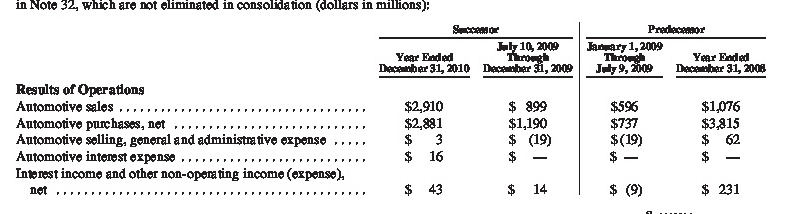table: (0, 0, 790, 214)
